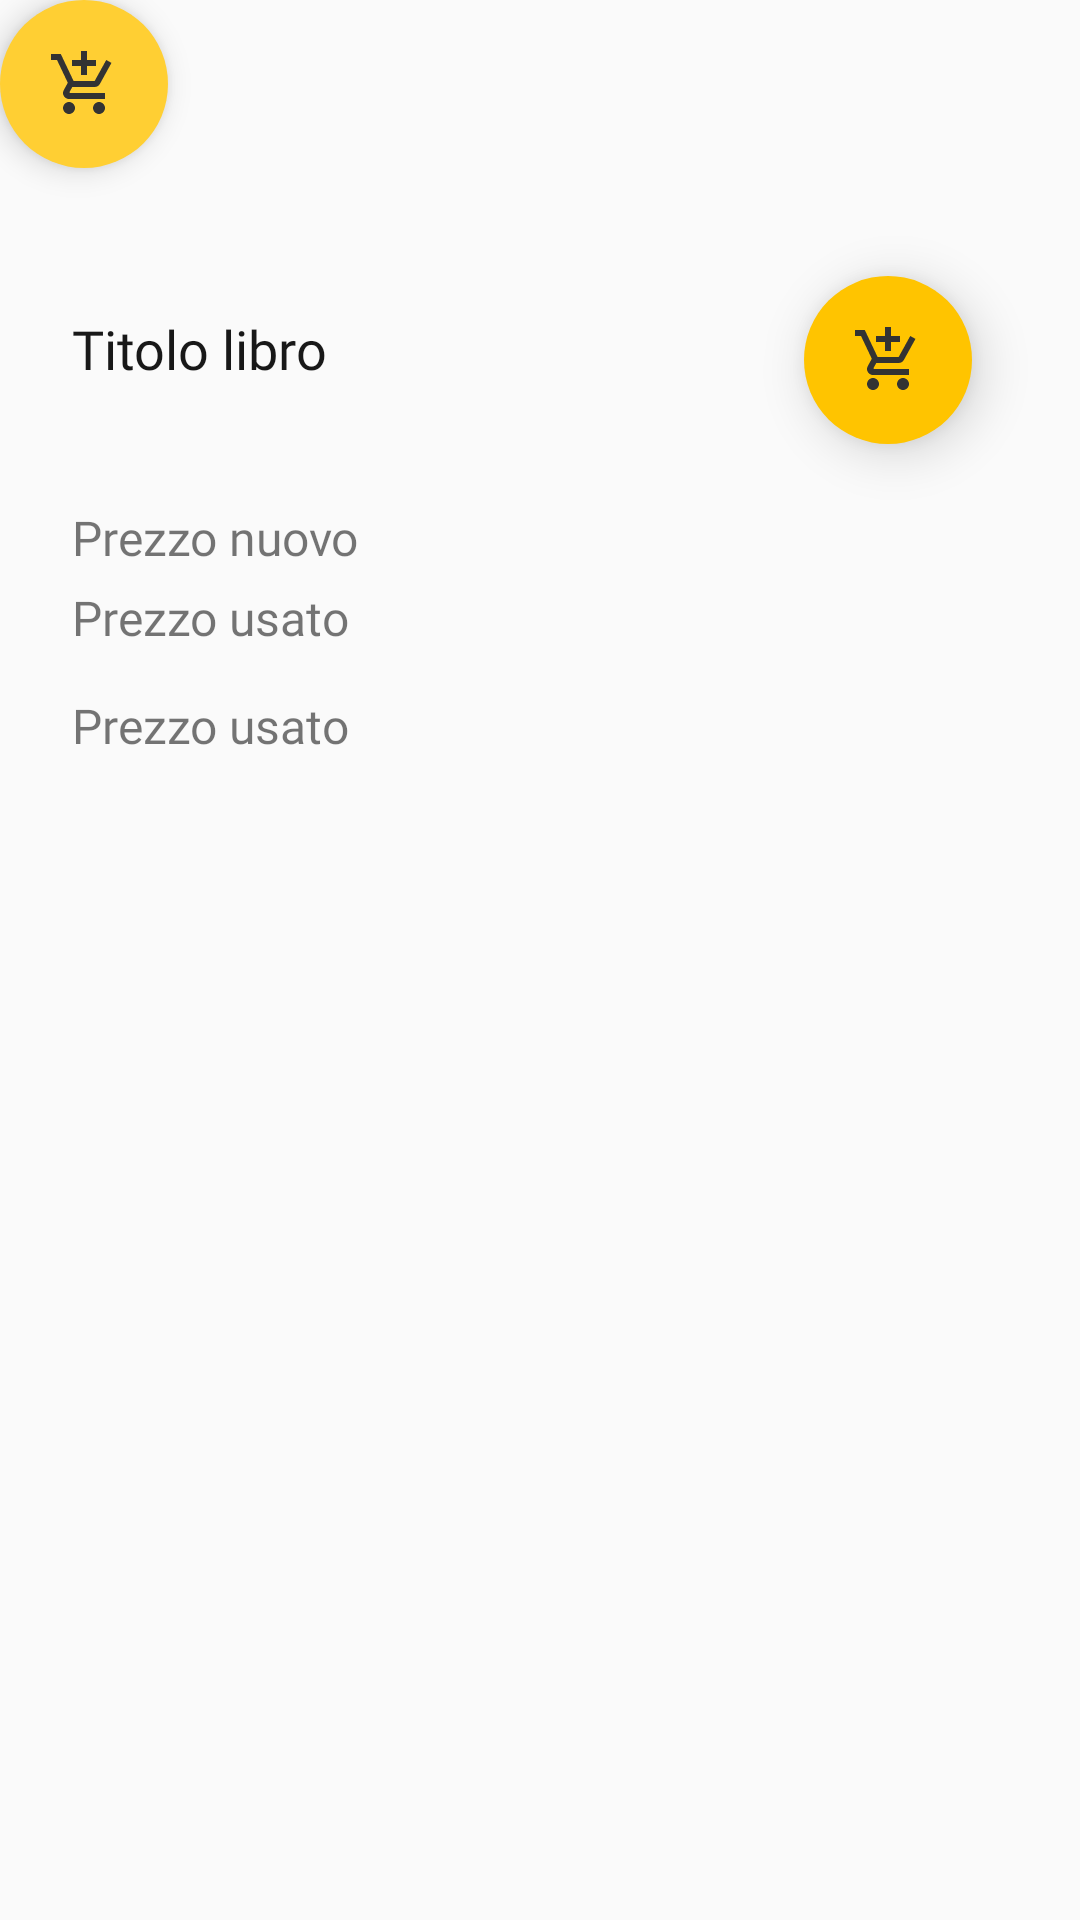

Locate icon controls on the screen. Image size 1080*1920, boxes as (x1=x1, y1=y1, x2=x2, y2=y2).
shopping cart: (x1=0, y1=0, x2=168, y2=168), (x1=804, y1=276, x2=972, y2=444)
